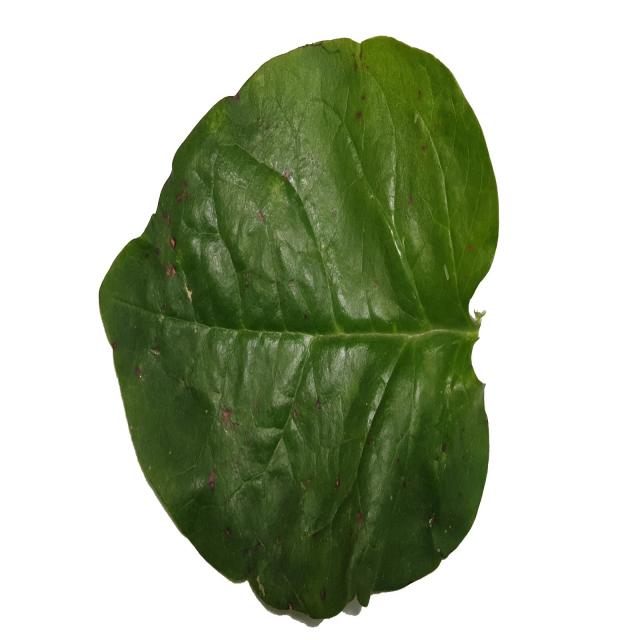Medicinal-Basale: (95, 31, 499, 620)
